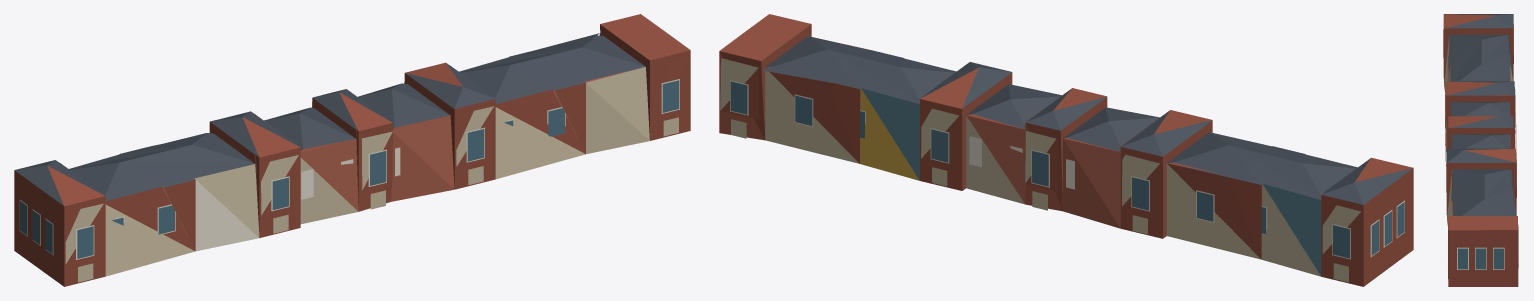
The model's file is artis-library.lod2.glb.
The picture shows the model from 3 angles, left to right: view 1: azimuth 30°, elevation 25°; view 2: azimuth 150°, elevation 25°; view 3: azimuth 270°, elevation 25°; orthographic projection. The views are drawn at different scales.
Visible parts, largest first — view 1: lod2; view 2: lod2; view 3: lod2.
Boxes of the visible parts, left/top/right/bottom form: lod2: left=14, top=14, right=690, bottom=286; lod2: left=719, top=14, right=1413, bottom=286; lod2: left=1443, top=14, right=1518, bottom=286.
Bounding box in the file's own units: 80.39 × 10.79 × 12.08.
